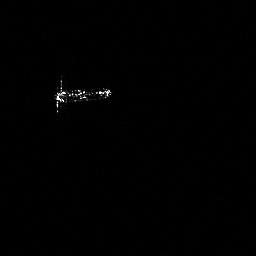ship: (53, 74, 112, 116)
